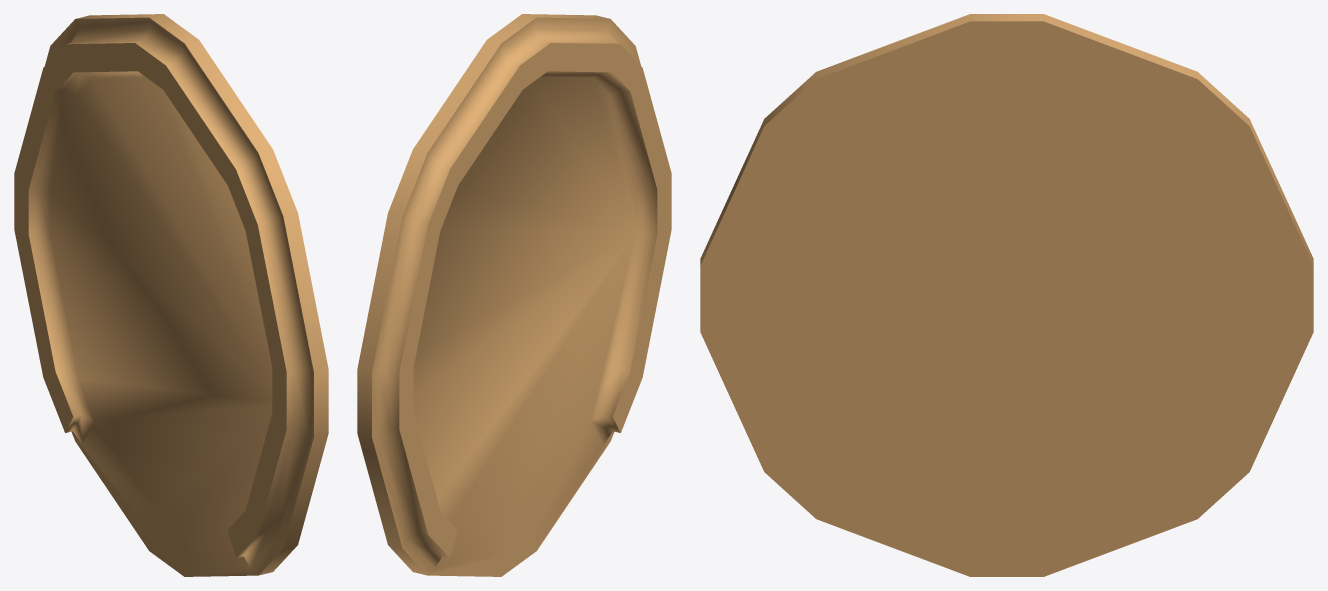
File: Pipe_Ausgang_01.fbx
3 renders of one model, left to right at view 1: azimuth 30°, elevation 25°; view 2: azimuth 150°, elevation 25°; view 3: azimuth 270°, elevation 25°, orthographic. The views are drawn at different scales.
Parts seen in each view (by area): view 1: Pipe_Ausgang_01.001; view 2: Pipe_Ausgang_01.001; view 3: Pipe_Ausgang_01.001.
Part boxes in pixels (bbox=[...]): Pipe_Ausgang_01.001: bbox=[14, 14, 328, 576]; Pipe_Ausgang_01.001: bbox=[357, 14, 671, 576]; Pipe_Ausgang_01.001: bbox=[700, 14, 1313, 576].
Bounding box in the file's own units: 2.67 × 44.07 × 44.07.
